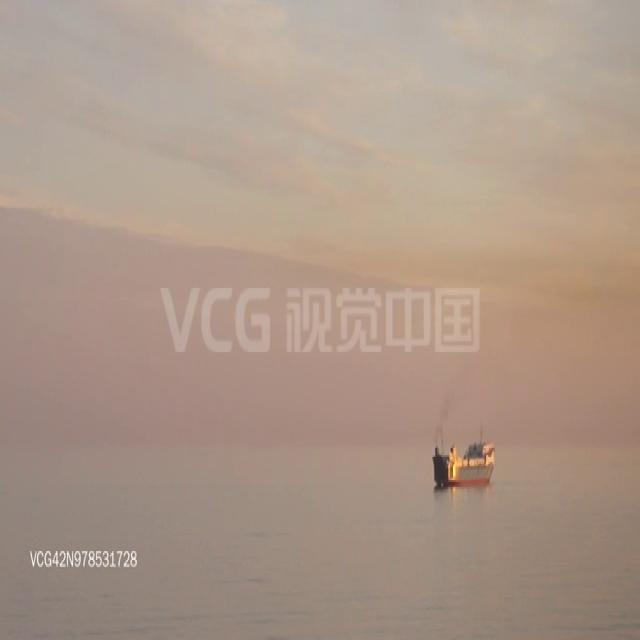cargoship: (430, 427, 497, 488)
